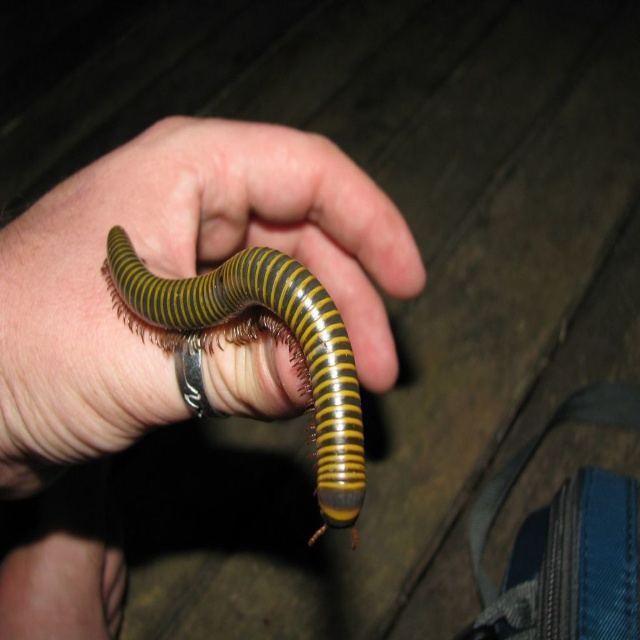Centipede: (98, 222, 366, 553)
